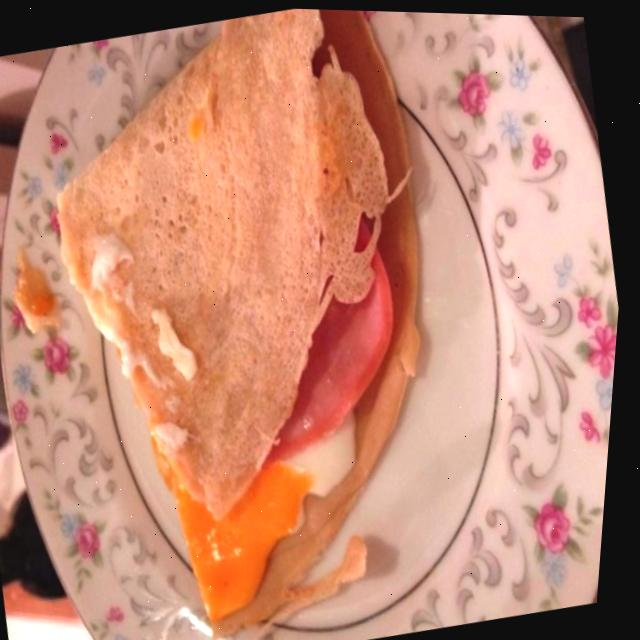蛋糕甜品: (0, 0, 513, 640)
